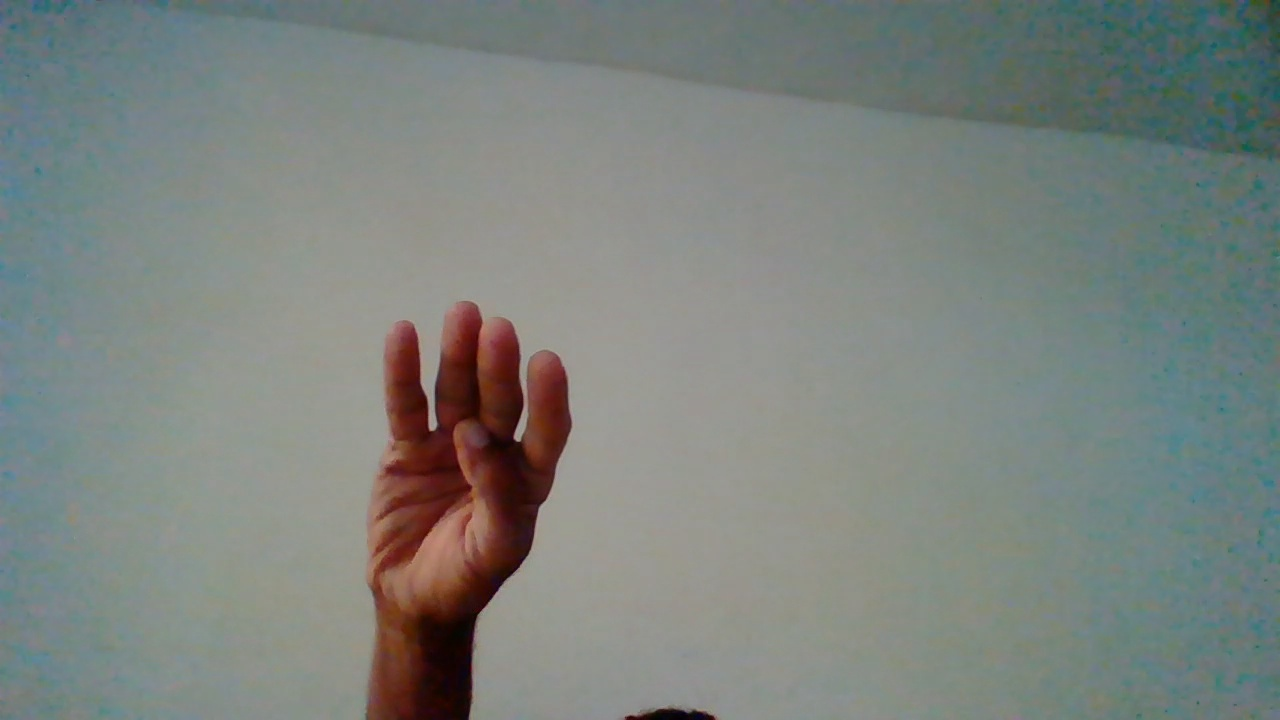me: (363, 294, 574, 709)
